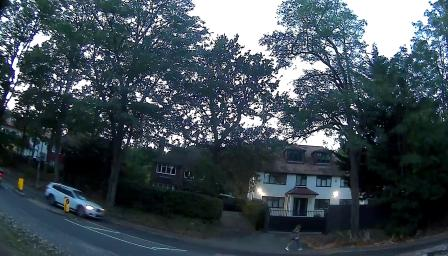Cars: (48, 180, 104, 232)
